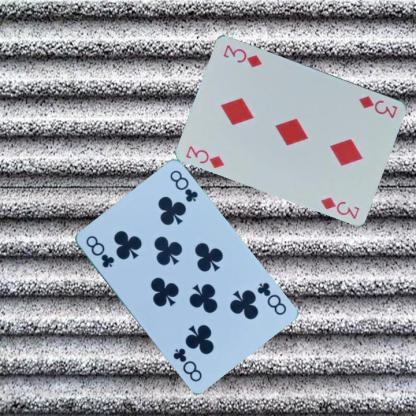3d: (356, 93, 399, 120), (183, 143, 226, 169)
8c: (82, 233, 115, 269), (254, 280, 287, 316)
